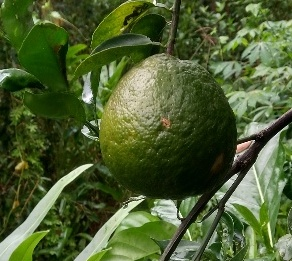Cam: (93, 47, 242, 199)
